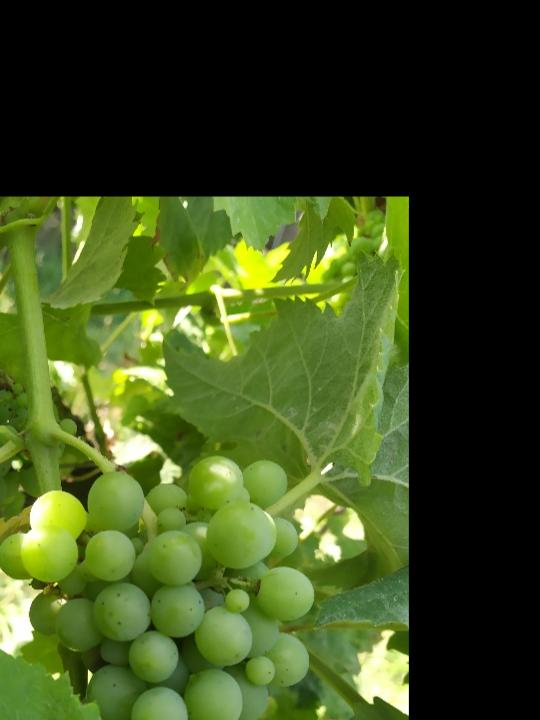grape: (0, 454, 316, 720)
